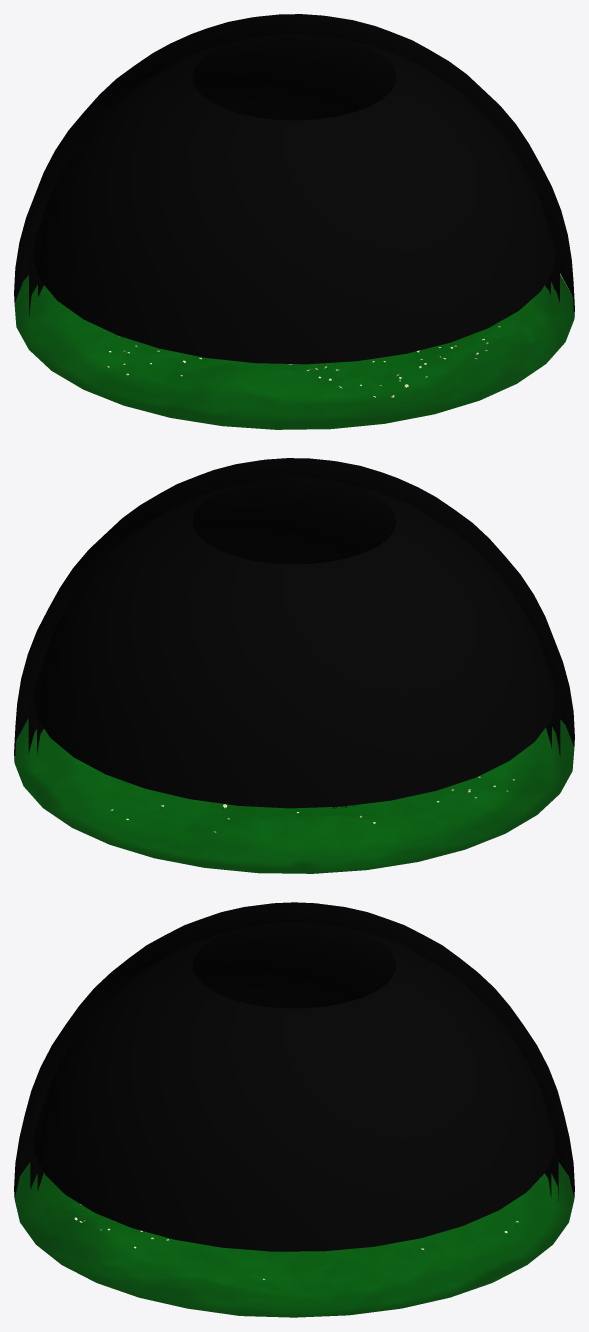
Rendered from Sketchfab_2021_03_22_21_03_25_new.dae.
3 renders of one model, top to bottom at view 1: azimuth 30°, elevation 25°; view 2: azimuth 150°, elevation 25°; view 3: azimuth 270°, elevation 25°, orthographic.
Parts seen in each view (by area): view 1: Clouds, Floor, World, Trees; view 2: Clouds, Floor, World, Trees; view 3: Clouds, Floor, World, Trees.
Boxes of the visible parts, x1=… form: Clouds: x1=33, y1=34, x2=556, y2=364; Floor: x1=14, y1=274, x2=574, y2=429; World: x1=14, y1=14, x2=574, y2=317; Trees: x1=29, y1=203, x2=559, y2=316; Clouds: x1=32, y1=478, x2=556, y2=808; Floor: x1=14, y1=718, x2=574, y2=873; World: x1=14, y1=458, x2=574, y2=761; Trees: x1=28, y1=647, x2=560, y2=756; Clouds: x1=34, y1=922, x2=554, y2=1251; Floor: x1=14, y1=1162, x2=574, y2=1317; World: x1=14, y1=902, x2=574, y2=1197; Trees: x1=30, y1=1093, x2=558, y2=1200.
Size of the model in its own units: 40.88 by 40.88 by 22.78.
